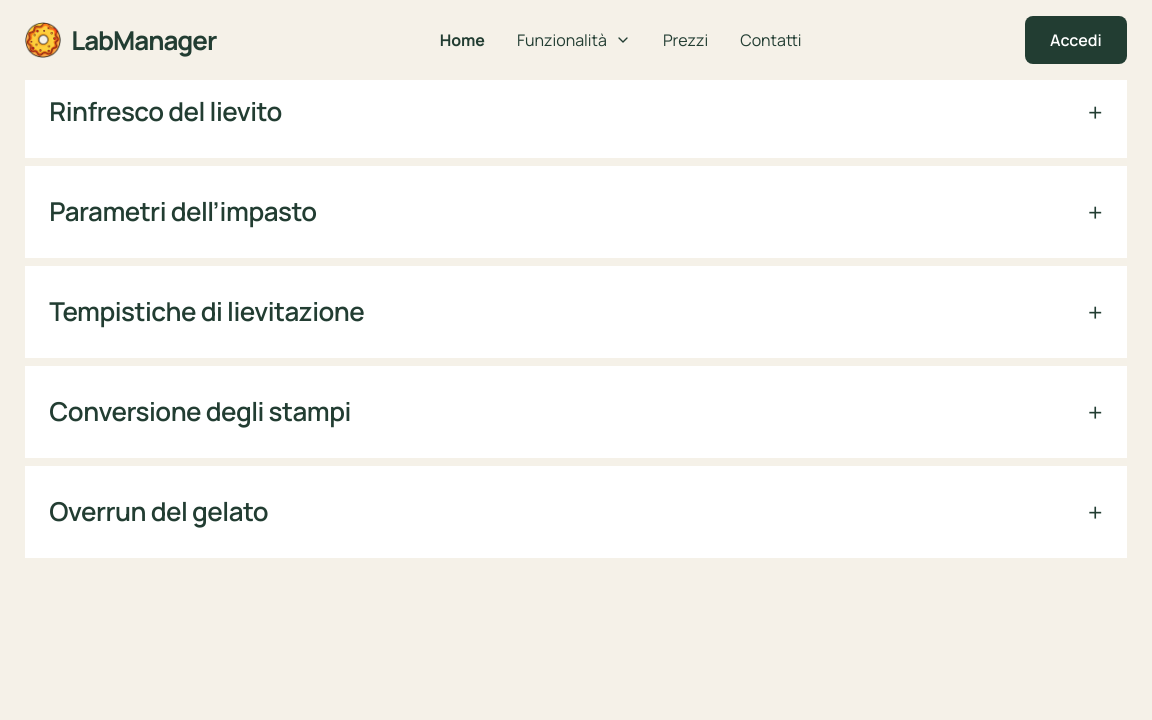
Test: work area pages › describes all seven calculators in expandable entries without presenting a simulated app
The image size is (1152, 720).
(page scrolled)
Expected: the heading "Rinfresco del lievito" is shown, 49,95 -> 282,129
Expected: the heading "Parametri dell’impasto" is shown, 49,195 -> 316,229
Click the heading "Conversione degli stampi" at {"x": 200, "y": 412}, box 49,395 -> 351,429
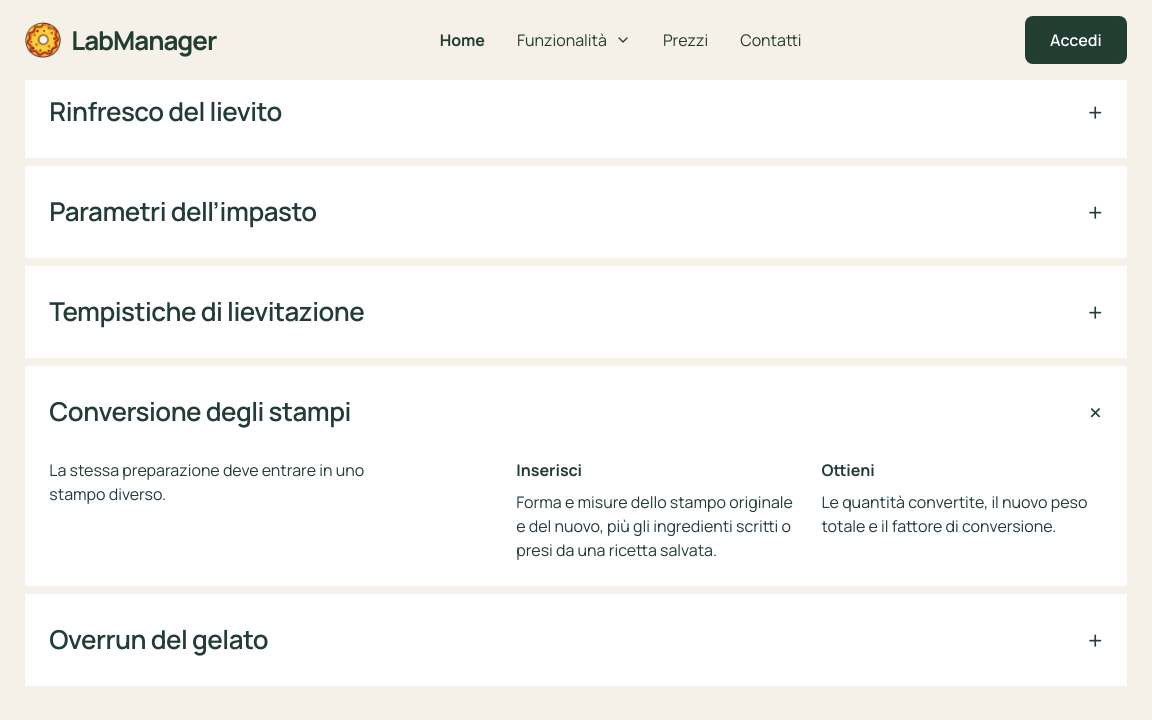
Expected: the text "Le quantità convertite, il nuovo peso totale" is shown, 821,491 -> 1087,537
